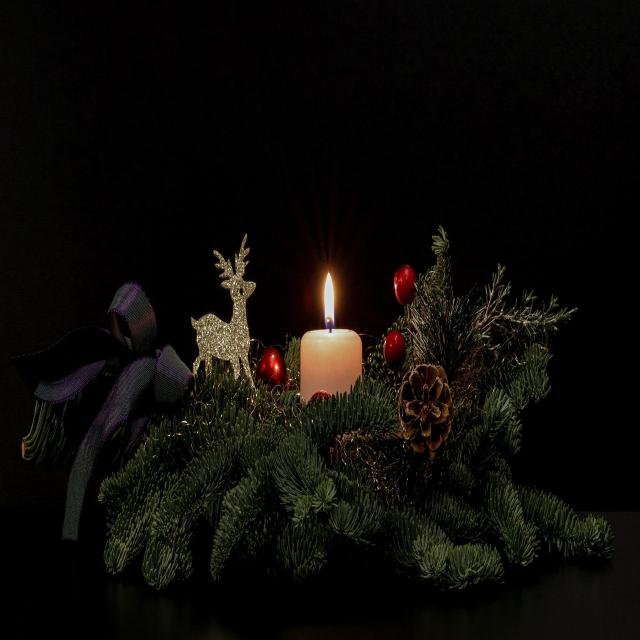Fire_Save: (299, 269, 363, 406)
